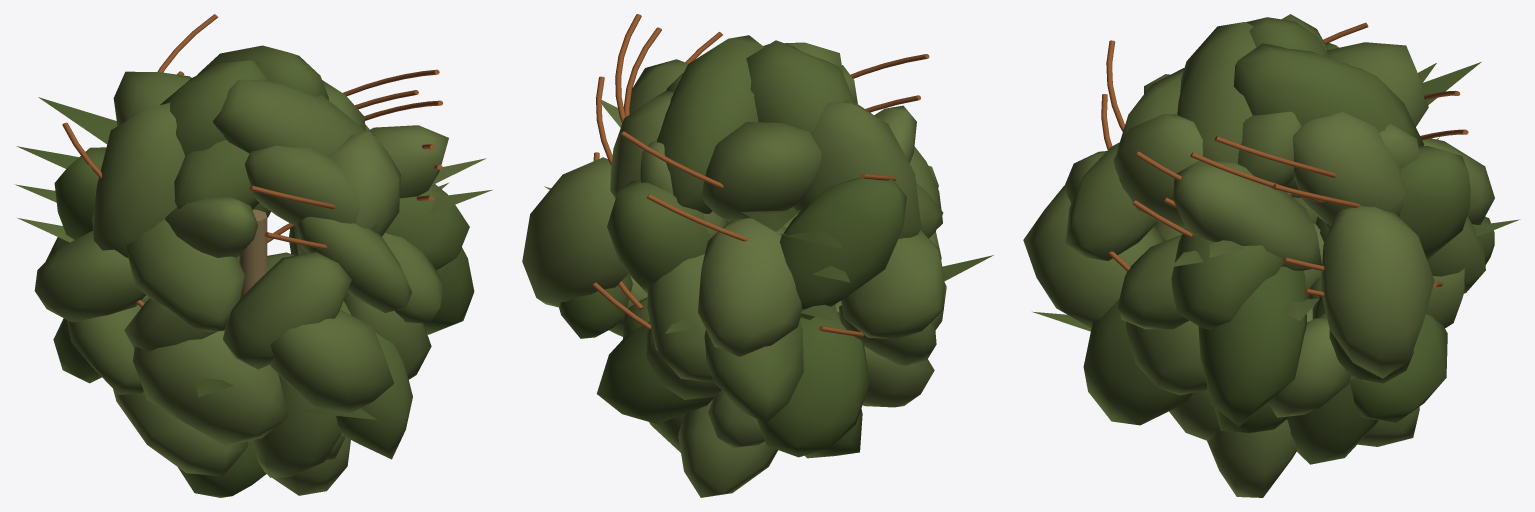
Rendered from bud_3.glb.
3 views of the same model, side by side, from view 1: azimuth 30°, elevation 25°; view 2: azimuth 150°, elevation 25°; view 3: azimuth 270°, elevation 25° (orthographic).
Visible parts, largest first — view 1: Bud_3; view 2: Bud_3; view 3: Bud_3.
Boxes of the visible parts, x1=… form: Bud_3: x1=14, y1=14, x2=492, y2=497; Bud_3: x1=522, y1=14, x2=993, y2=497; Bud_3: x1=1023, y1=14, x2=1520, y2=497.
Size of the model in its own units: 0.00544 by 0.00558 by 0.00569.
